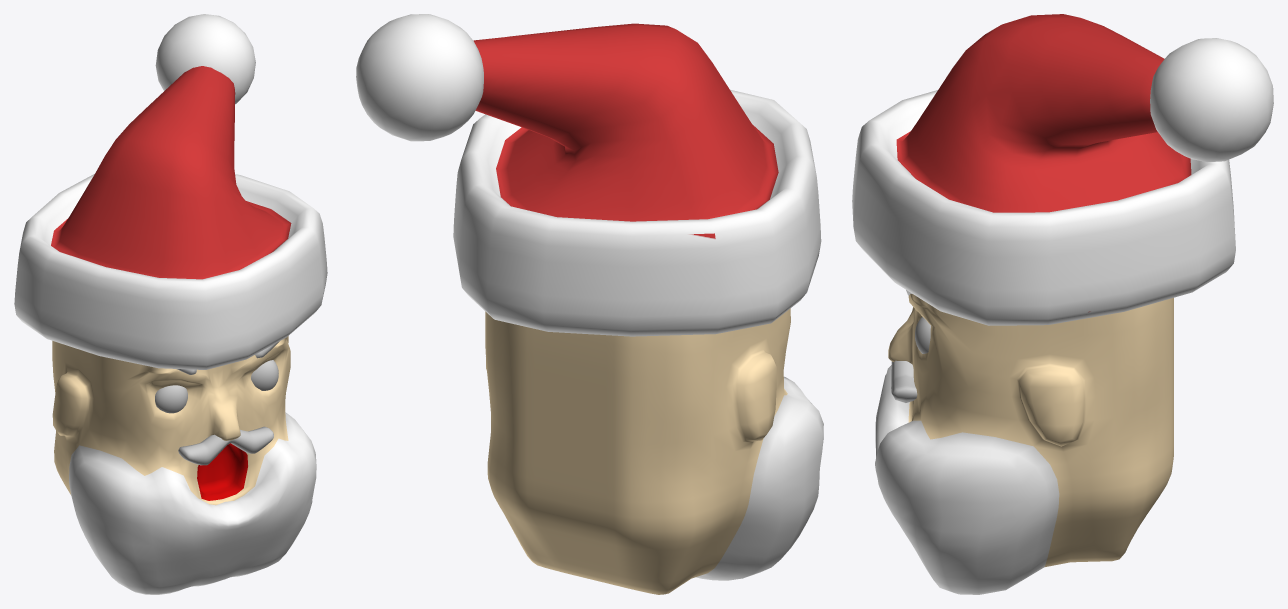
Rendered from santaHeadAngryMouthOpen.fbx.
3 views of the same model, side by side, from view 1: azimuth 30°, elevation 25°; view 2: azimuth 150°, elevation 25°; view 3: azimuth 270°, elevation 25° (orthographic). The views are drawn at different scales.
Visible parts, largest first — view 1: hat.002, head.002, mustache.002, eyeL.002, eyeR.002; view 2: hat.002, head.002; view 3: hat.002, head.002, mustache.002.
Part boxes in pixels (<box>): hat.002: <box>14,14,327,369</box>; head.002: <box>52,336,316,594</box>; mustache.002: <box>178,426,273,465</box>; eyeL.002: <box>155,385,187,413</box>; eyeR.002: <box>251,360,278,390</box>; hat.002: <box>356,14,821,336</box>; head.002: <box>485,308,823,594</box>; hat.002: <box>852,14,1273,325</box>; head.002: <box>875,294,1173,594</box>; mustache.002: <box>891,360,917,402</box>.
Bounding box in the file's own units: 308 × 494 × 324.
